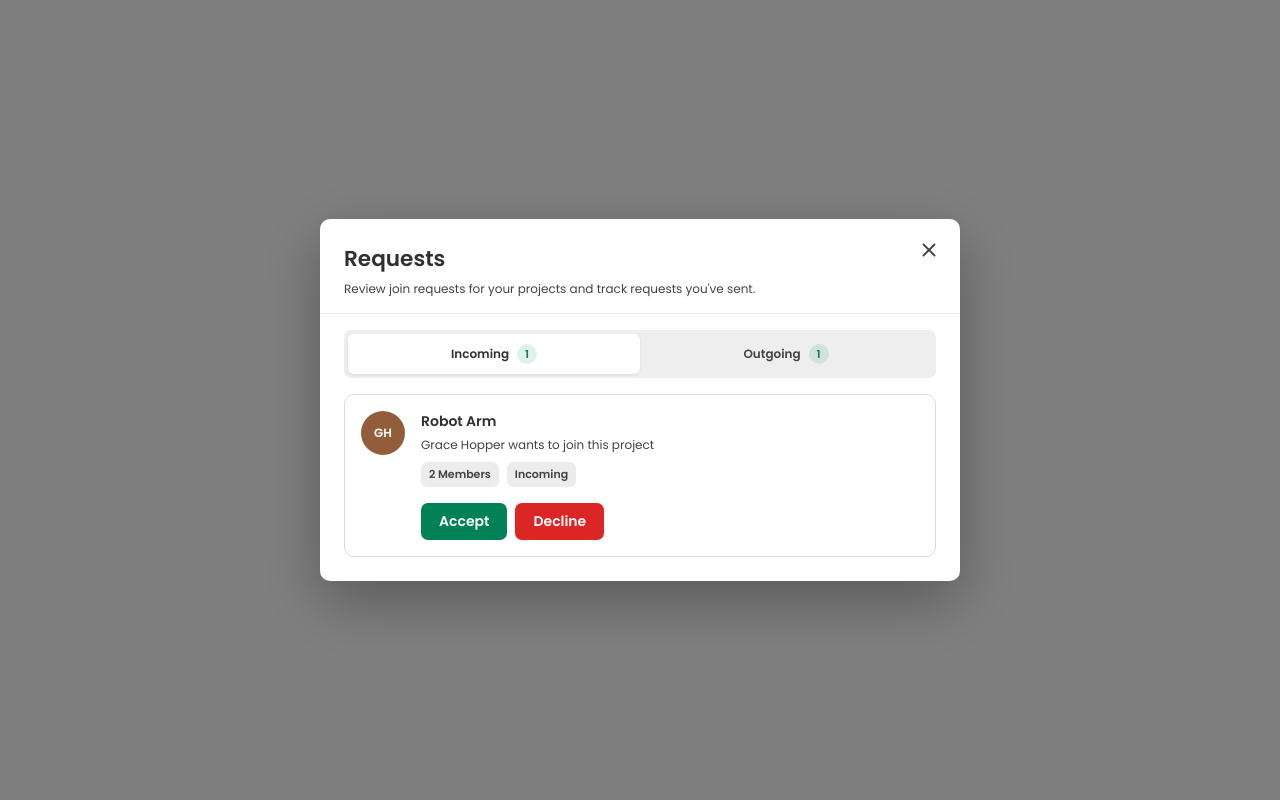
Scenario: RequestsModal › keeps the error from a failed Decline after the reload
Click the tab "Incoming 1". click: {"x": 494, "y": 354}
box: 348,334 -> 640,374
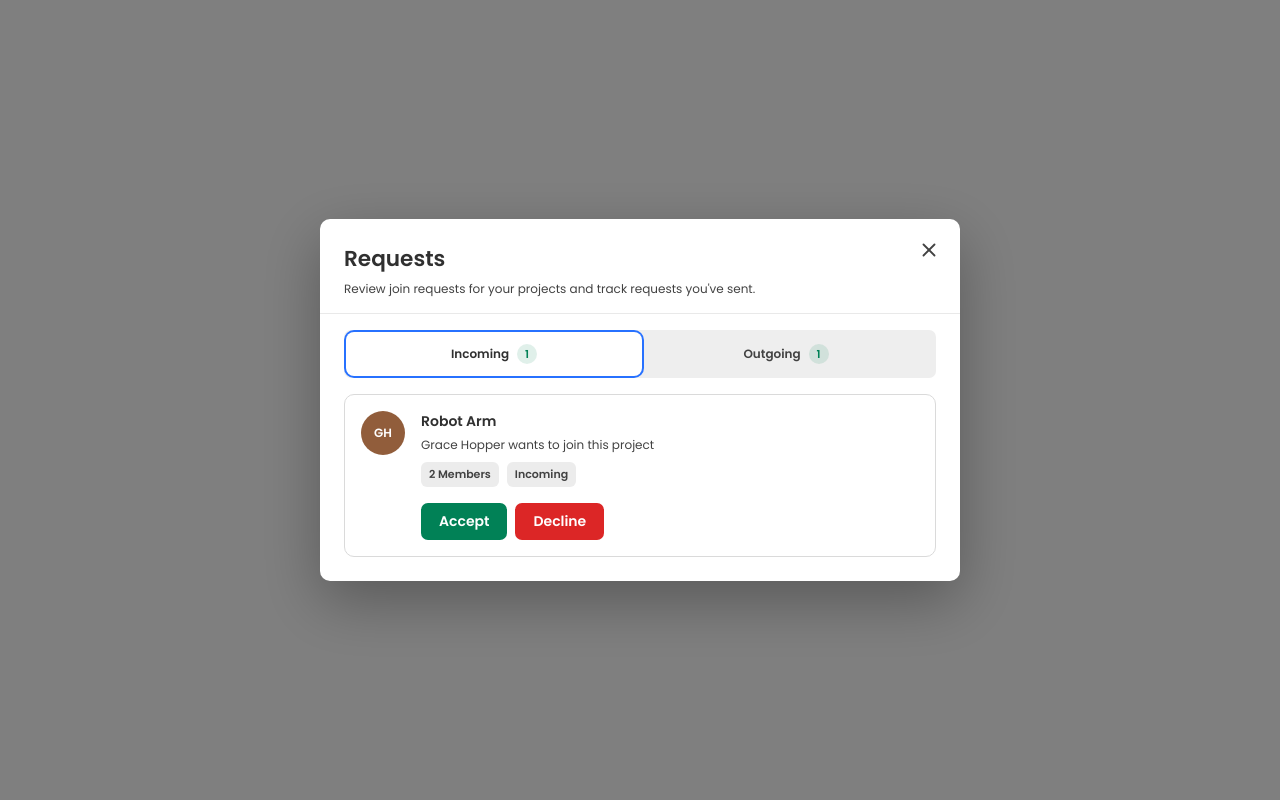
Click the button "Decline". click: {"x": 560, "y": 521}
box: 516,503 -> 604,540
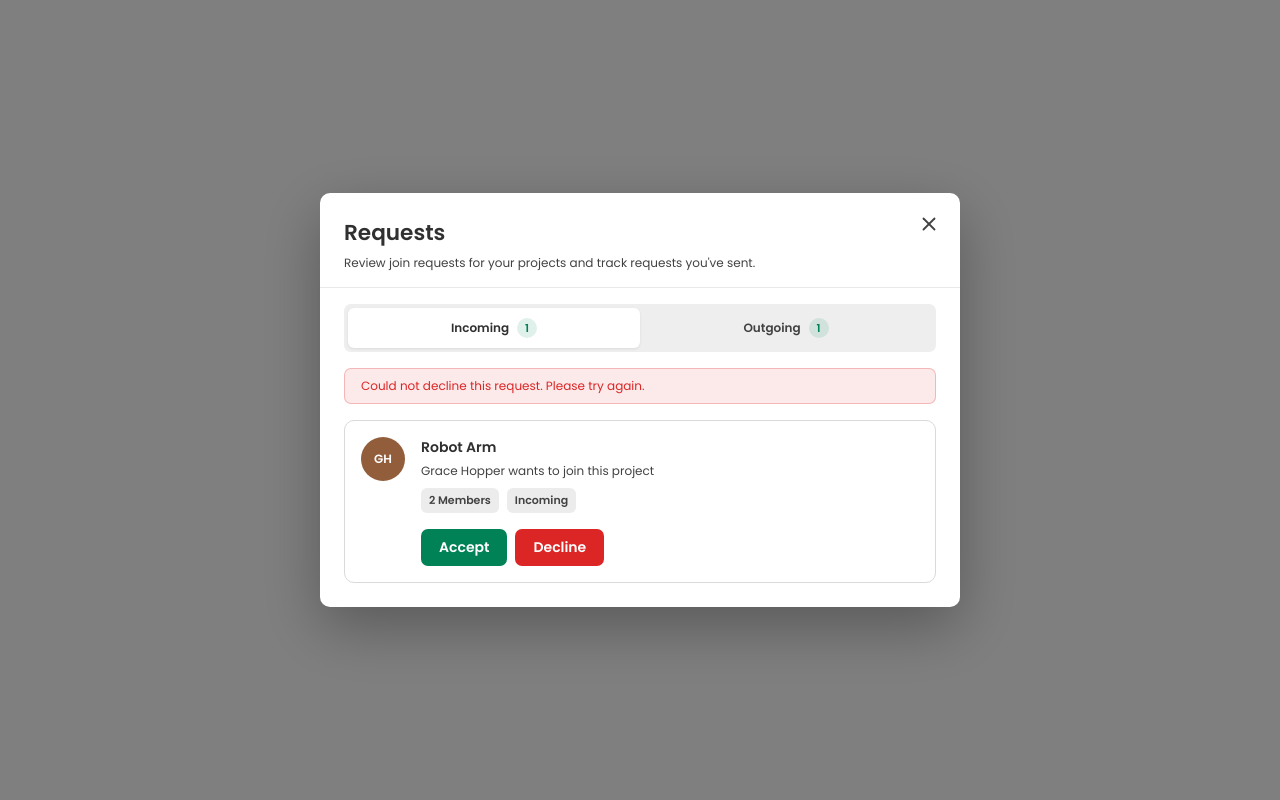
Expected: the button "Decline" is enabled, 516,529 -> 604,566
Expected: the text "Could not decline this request. Please try again." is shown, 344,368 -> 936,404
